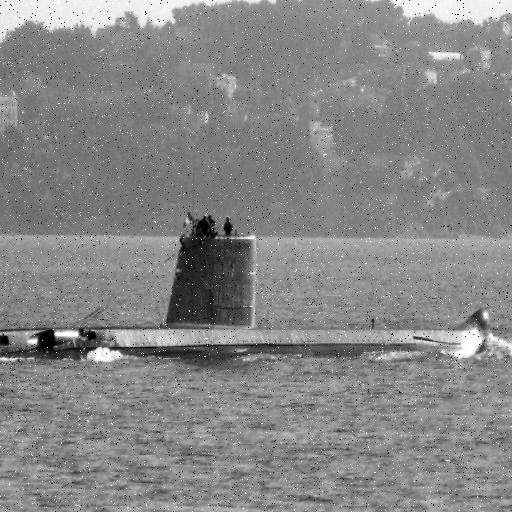submarine: (1, 233, 511, 359)
